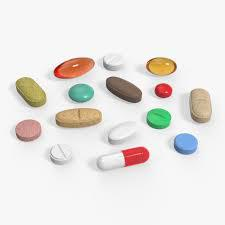capsule: (97, 147, 148, 171)
tablet: (15, 76, 47, 111), (104, 75, 143, 103), (53, 106, 103, 127), (54, 55, 96, 79), (190, 87, 212, 125), (108, 118, 135, 144), (145, 56, 178, 77), (14, 117, 41, 142), (145, 106, 172, 130), (67, 82, 96, 104), (49, 142, 72, 165), (174, 132, 198, 154), (103, 52, 125, 71), (154, 82, 174, 99)
